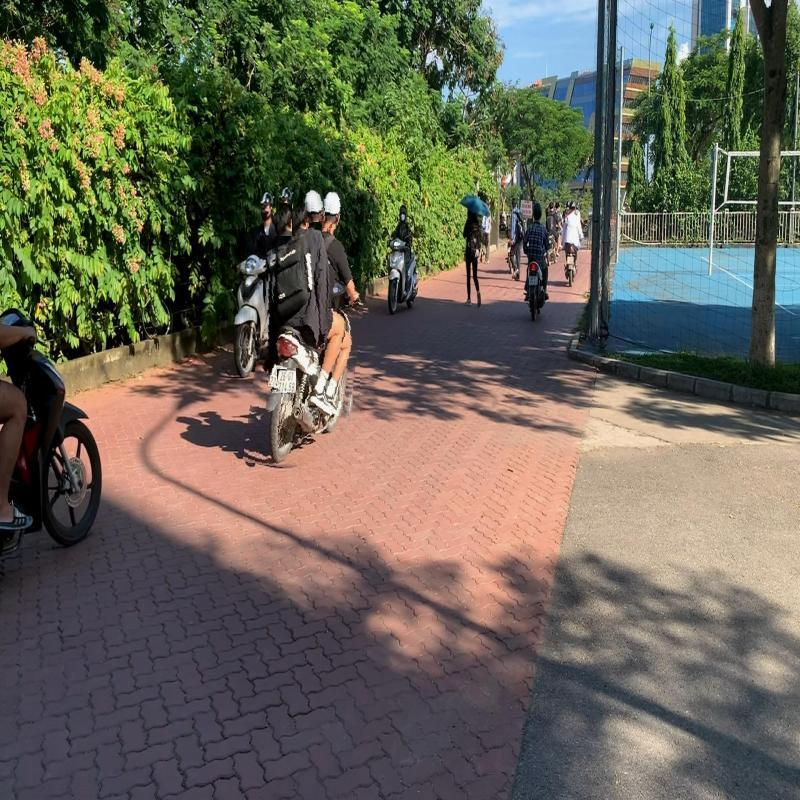helmet: (303, 188, 325, 223)
licenseplate: (277, 368, 296, 393)
motorcyclist: (252, 182, 370, 473)
nohelmet: (273, 203, 292, 236)
